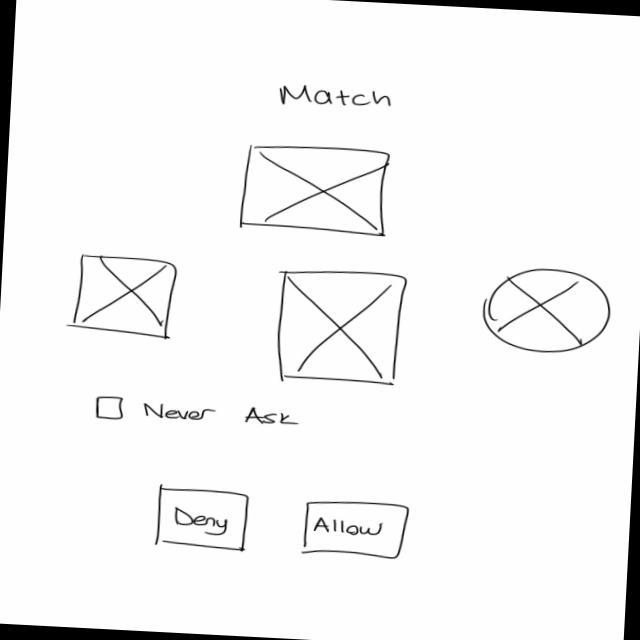button: (298, 496, 412, 561), (151, 484, 252, 555)
checkbox: (92, 393, 300, 432)
image: (273, 265, 409, 389), (238, 140, 396, 240), (479, 264, 615, 358), (68, 251, 178, 342)
label: (276, 80, 396, 116)
